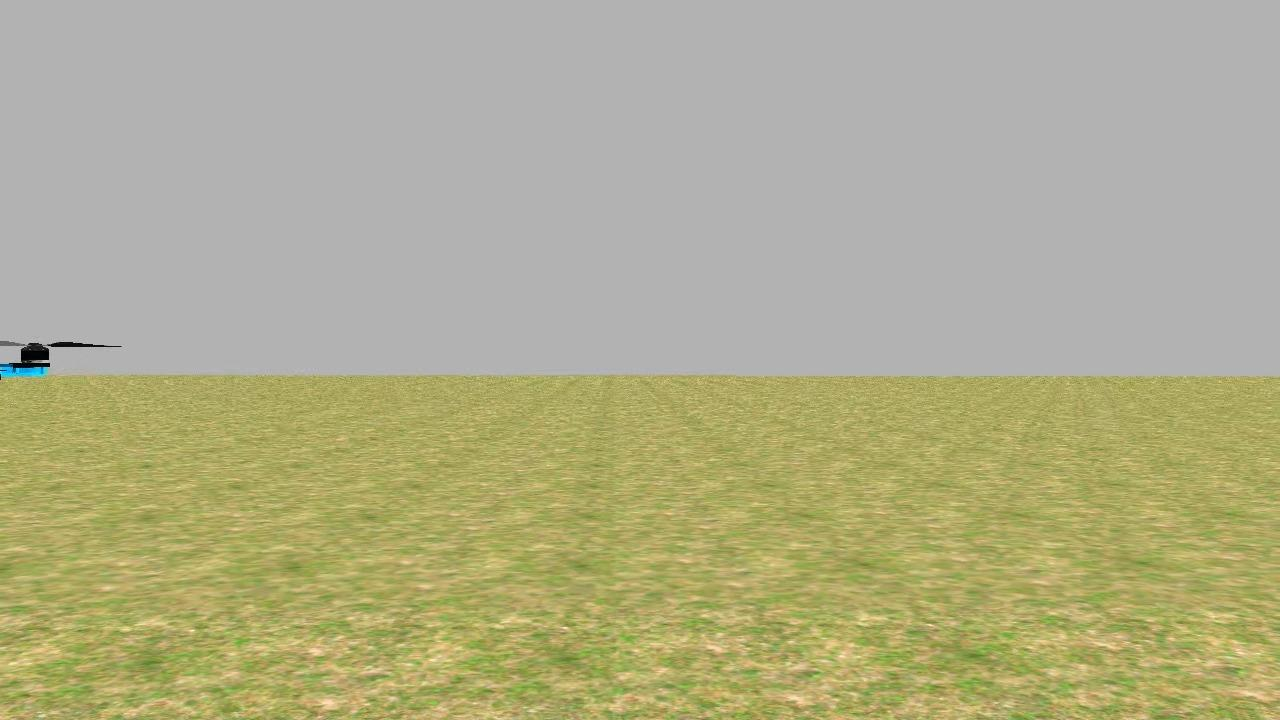UAV: (0, 333, 124, 396)
